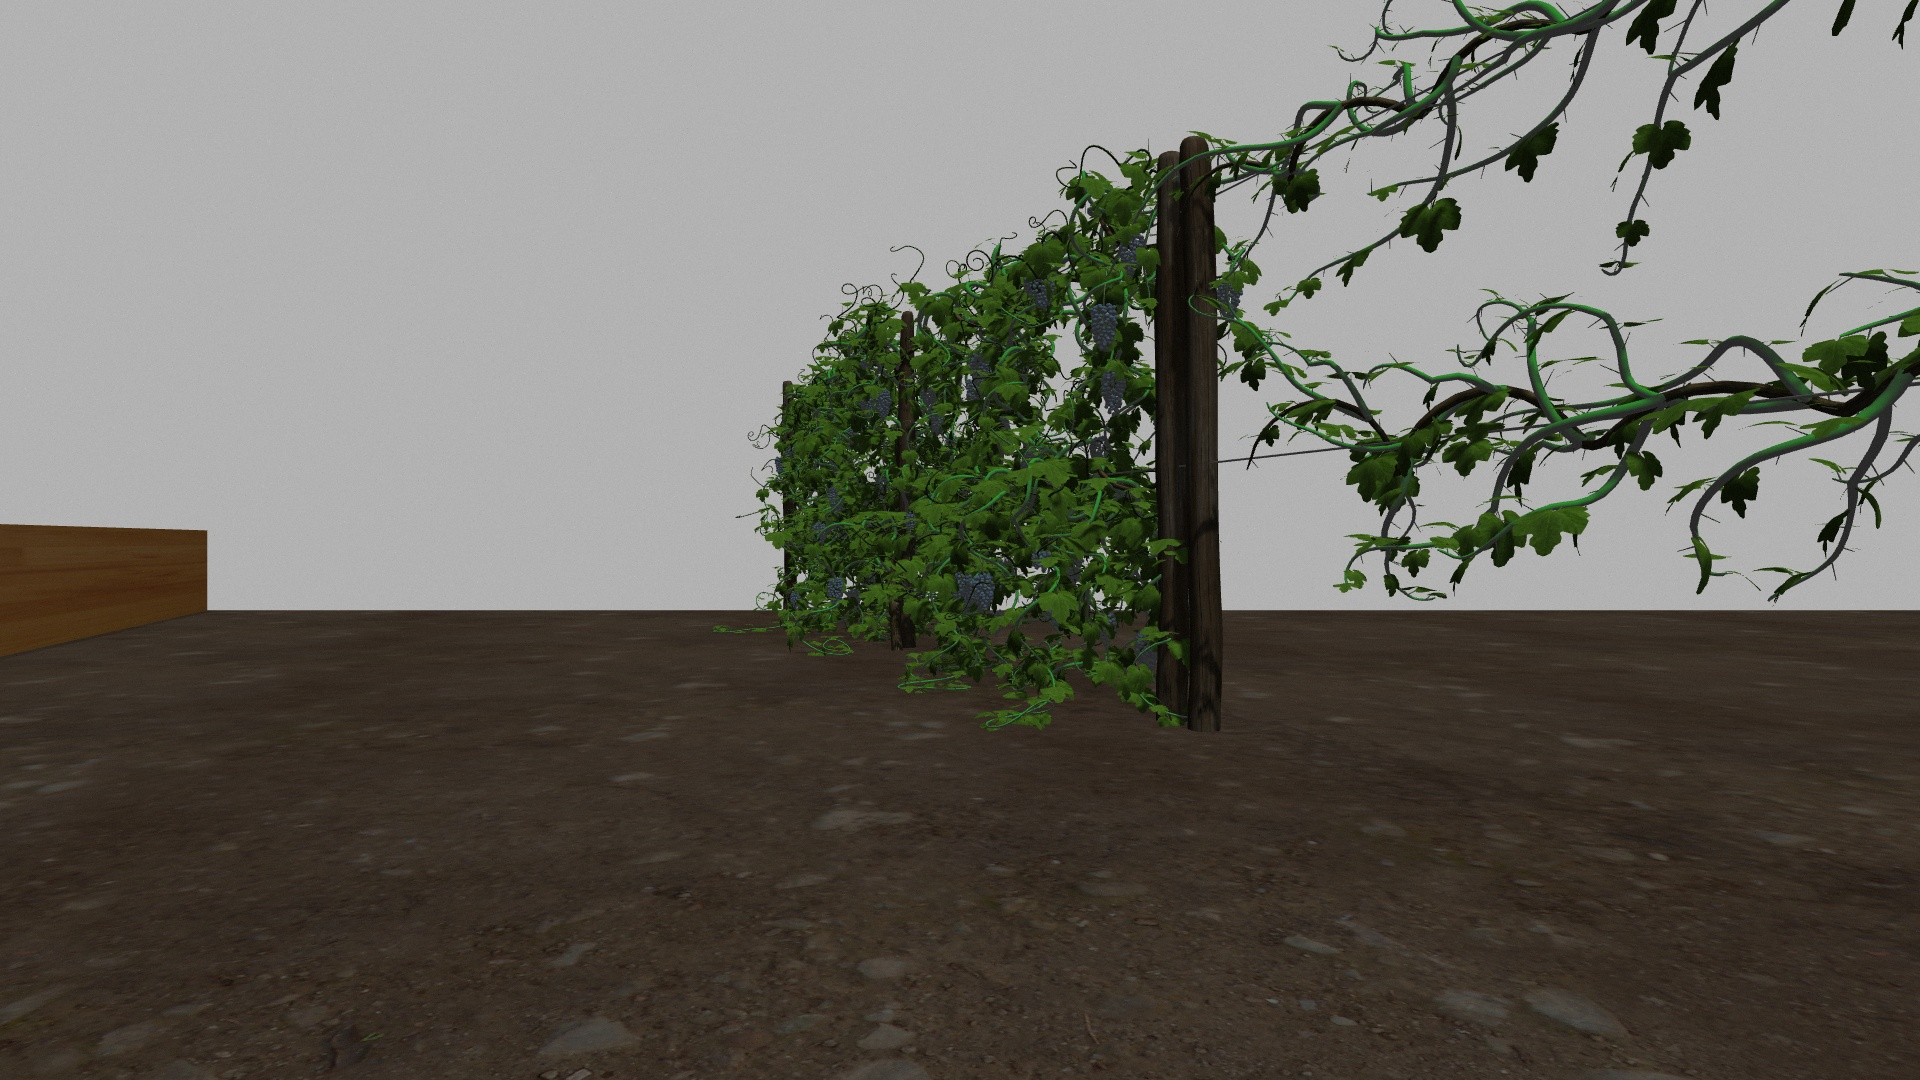grape: (1098, 367, 1129, 415), (1091, 305, 1118, 349), (1216, 280, 1244, 322), (1025, 278, 1056, 314), (1120, 236, 1146, 277), (1131, 633, 1158, 670), (973, 574, 996, 611), (953, 572, 976, 601), (827, 487, 847, 513), (971, 355, 990, 381), (876, 390, 891, 419), (825, 578, 844, 601), (967, 381, 982, 405), (920, 386, 938, 407), (928, 411, 945, 433), (814, 522, 829, 545), (773, 456, 785, 473), (789, 592, 802, 607)
